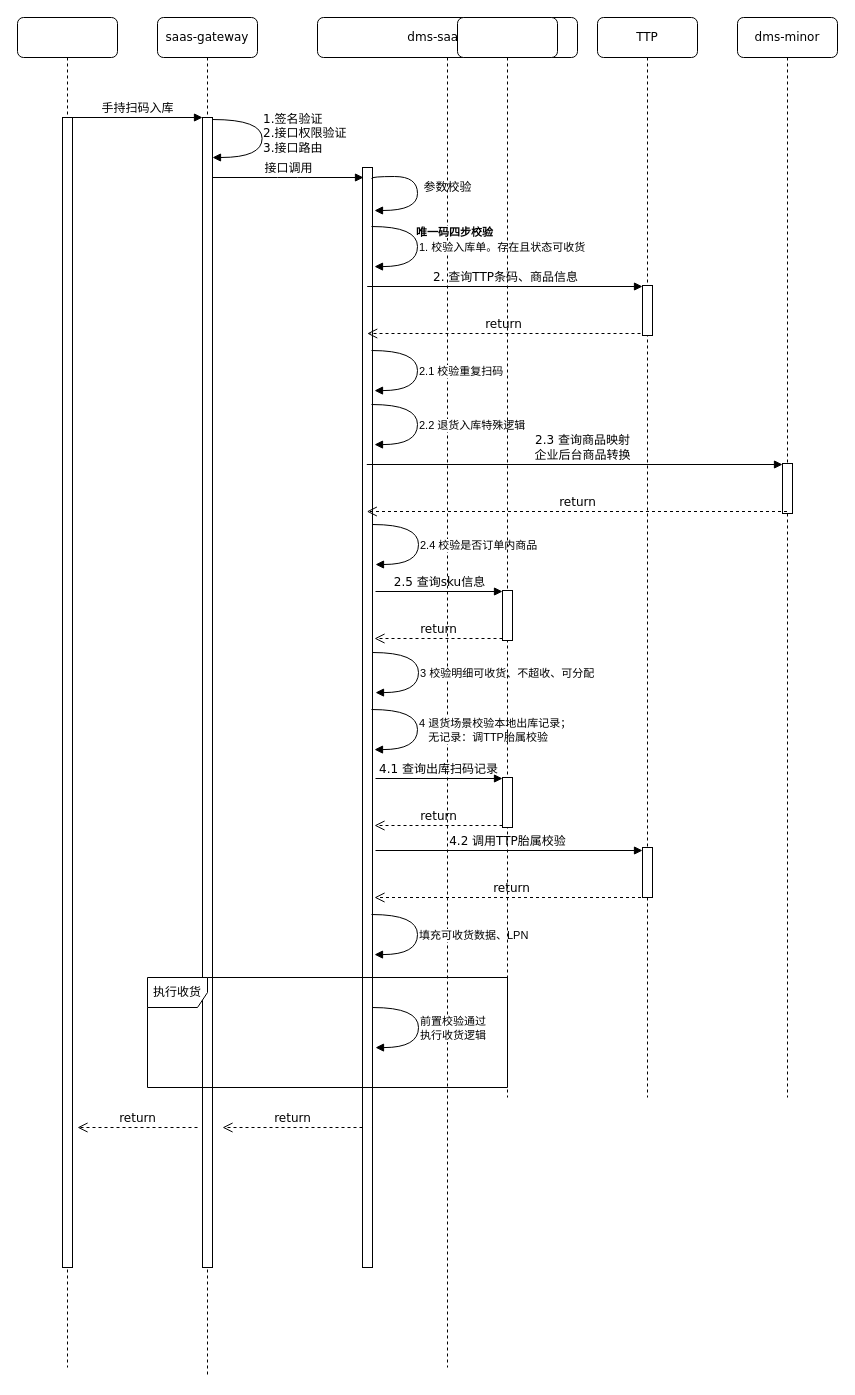
Image size: 855x1395. Some labels were removed from this diagram. Here are the shapes that lost their labels. From the top down, the box of each, then its label:
(456, 16, 558, 1098): BD
(16, 16, 118, 1368): 手持 App
